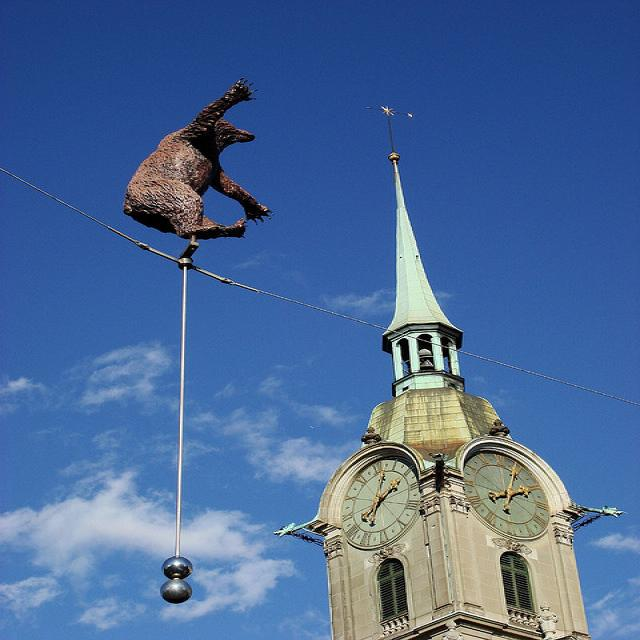Bear: (115, 78, 282, 254)
